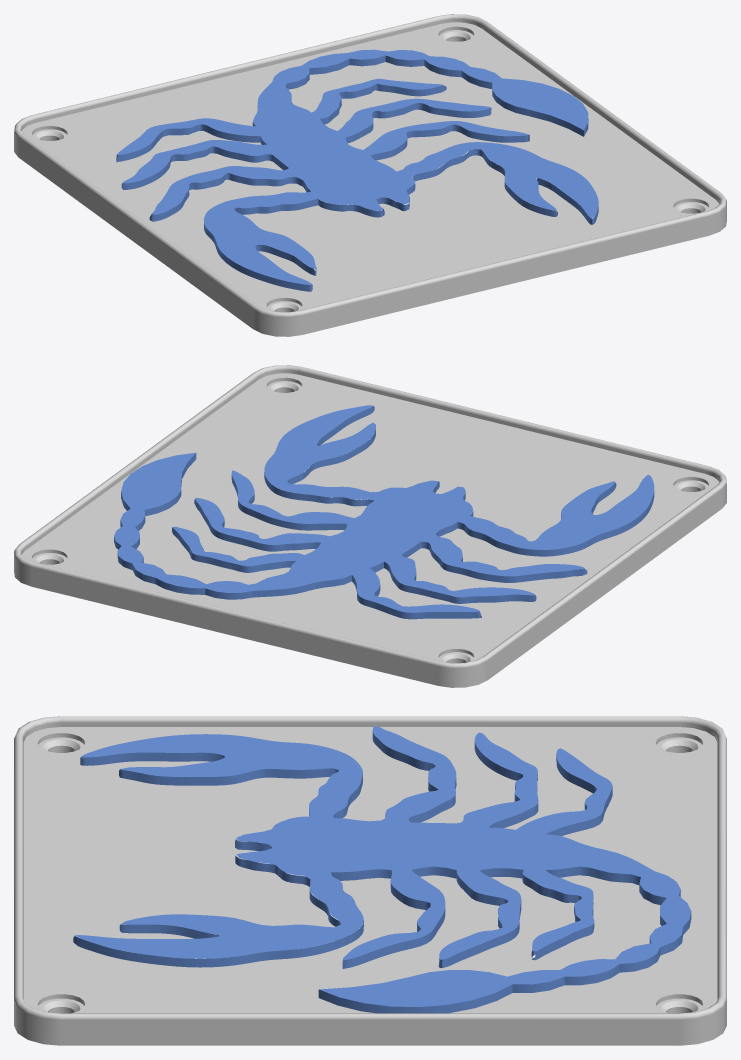
3 renders of one model, top to bottom at view 1: azimuth 30°, elevation 25°; view 2: azimuth 150°, elevation 25°; view 3: azimuth 270°, elevation 25°, orthographic. The views are drawn at different scales.
Visible parts, largest first — view 1: Object__0, Object__1; view 2: Object__0, Object__1; view 3: Object__0, Object__1.
Boxes of the visible parts, box(x1,y1,x2,y2) form: Object__0: box(14, 14, 726, 336); Object__1: box(116, 49, 598, 291); Object__0: box(14, 365, 726, 687); Object__1: box(114, 405, 654, 619); Object__0: box(14, 716, 726, 1045); Object__1: box(73, 726, 691, 1013).
Size of the model in its own units: 150 by 7 by 150.
